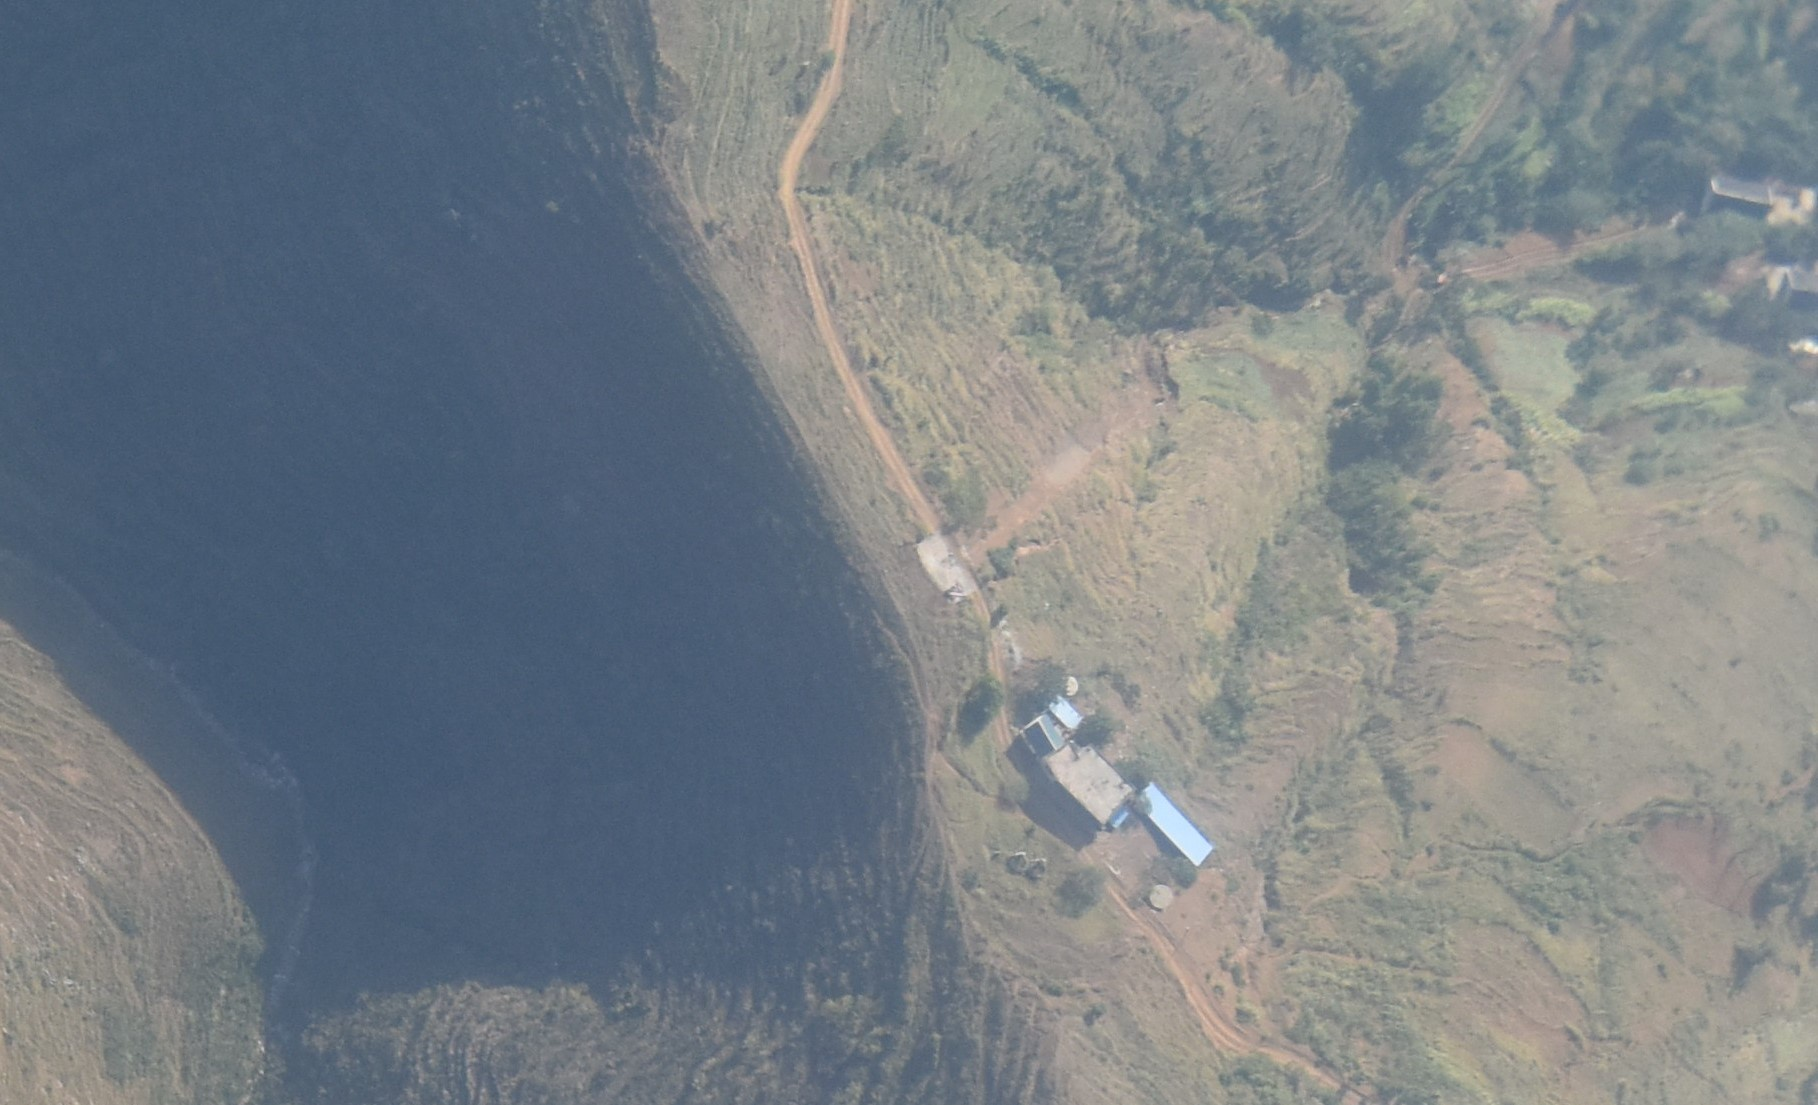building: (1044, 740, 1134, 826), (915, 534, 977, 599), (1705, 173, 1773, 217)
prefabricated-house: (1137, 784, 1213, 868), (1023, 712, 1064, 755), (1049, 695, 1084, 731), (1108, 807, 1129, 829)
well: (1150, 884, 1172, 910), (1061, 677, 1079, 696)
